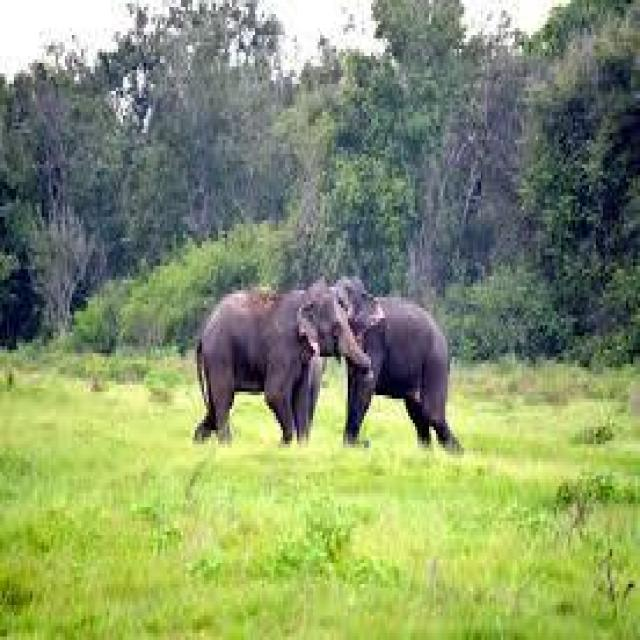Elephant: (195, 273, 457, 458)
